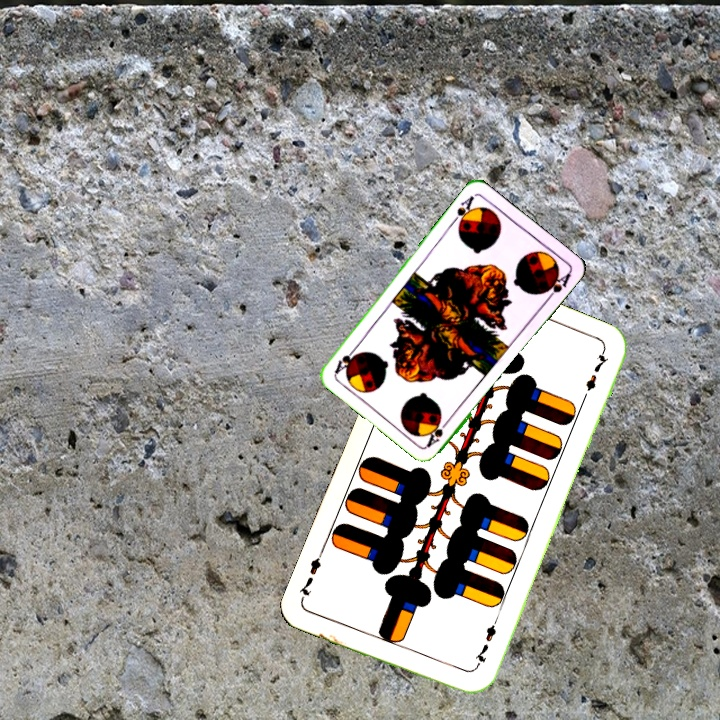E7: (468, 617, 500, 673)
SA: (447, 191, 477, 230), (423, 414, 453, 449)
